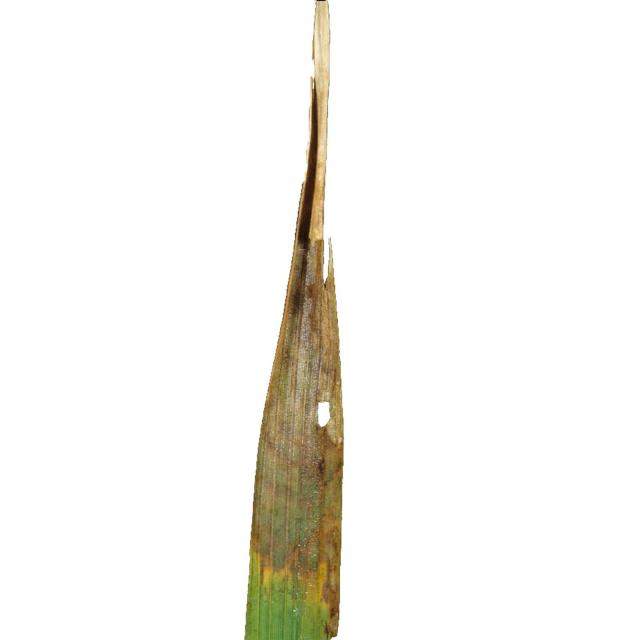Leaf scald: (208, 0, 452, 640)
